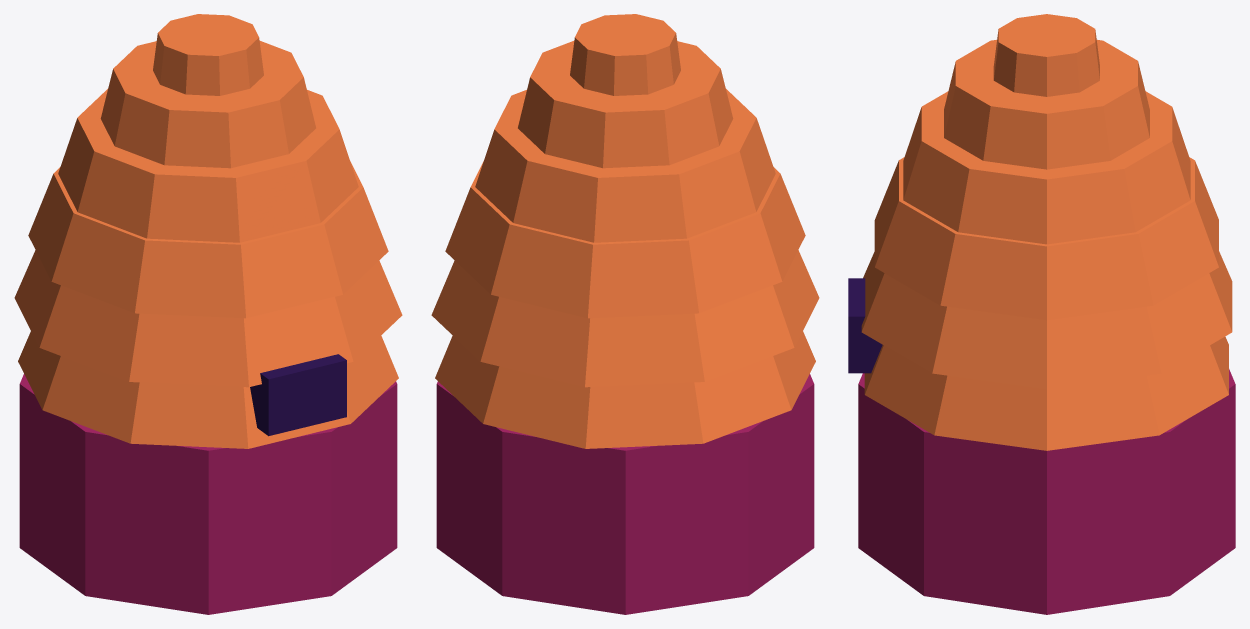
The model's file is hive.glb.
3 views of the same model, side by side, from view 1: azimuth 30°, elevation 25°; view 2: azimuth 150°, elevation 25°; view 3: azimuth 270°, elevation 25° (orthographic).
Parts seen in each view (by area): view 1: Skep, Stump, Hole; view 2: Skep, Stump; view 3: Skep, Stump, Hole.
Boxes of the visible parts, box(x1,y1,x2,y2) form: Skep: box(14, 14, 402, 448); Stump: box(19, 374, 397, 614); Hole: box(250, 354, 346, 436); Skep: box(431, 14, 819, 448); Stump: box(436, 374, 814, 614); Skep: box(861, 14, 1232, 450); Stump: box(858, 369, 1235, 614); Hole: box(848, 278, 882, 373).
Size of the model in its own units: 1.12 by 1.58 by 1.11.
